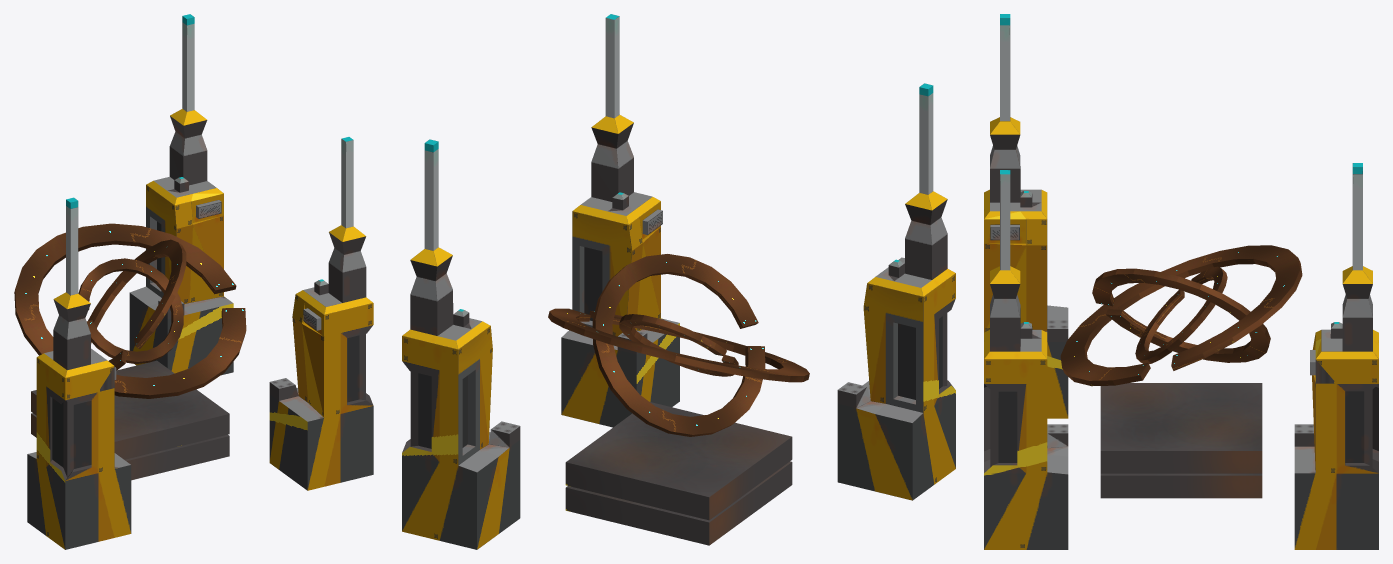
The model's file is gyro_bb.gltf.
The picture shows the model from 3 angles, left to right: view 1: azimuth 30°, elevation 25°; view 2: azimuth 150°, elevation 25°; view 3: azimuth 270°, elevation 25°; orthographic projection. The views are drawn at different scales.
Parts seen in each view (by area): view 1: statues, statues_selection_selection_selection, rings, statues_selection_selection, base; view 2: statues, statues_selection_selection_selection, statues_selection_selection, rings, base; view 3: statues, statues_selection_selection, rings, statues_selection_selection_selection, base.
Part boxes in pixels (left/top/right/bottom): statues: left=31, top=137, right=373, bottom=490; statues_selection_selection_selection: left=27, top=197, right=131, bottom=549; rings: left=14, top=223, right=246, bottom=398; statues_selection_selection: left=129, top=14, right=233, bottom=375; base: left=31, top=413, right=229, bottom=480; statues: left=561, top=14, right=792, bottom=520; statues_selection_selection_selection: left=837, top=83, right=955, bottom=500; statues_selection_selection: left=402, top=139, right=520, bottom=549; rings: left=548, top=254, right=809, bottom=436; base: left=565, top=461, right=792, bottom=545; statues: left=984, top=170, right=1262, bottom=549; statues_selection_selection: left=1294, top=163, right=1378, bottom=549; rings: left=1060, top=245, right=1302, bottom=386; statues_selection_selection_selection: left=984, top=14, right=1068, bottom=418; base: left=1100, top=473, right=1262, bottom=498.
Size of the model in its own units: 6.36 by 6.68 by 6.36.
Materials: 2 (2 with a texture image).
